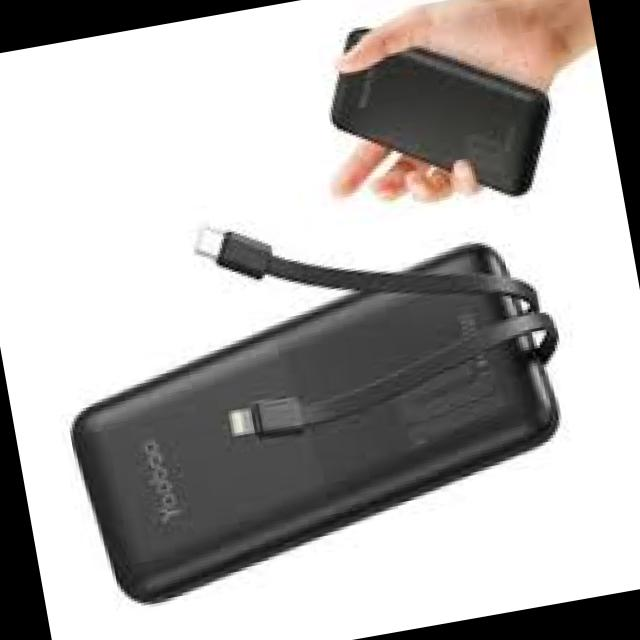portable-charger: (39, 230, 588, 614)
